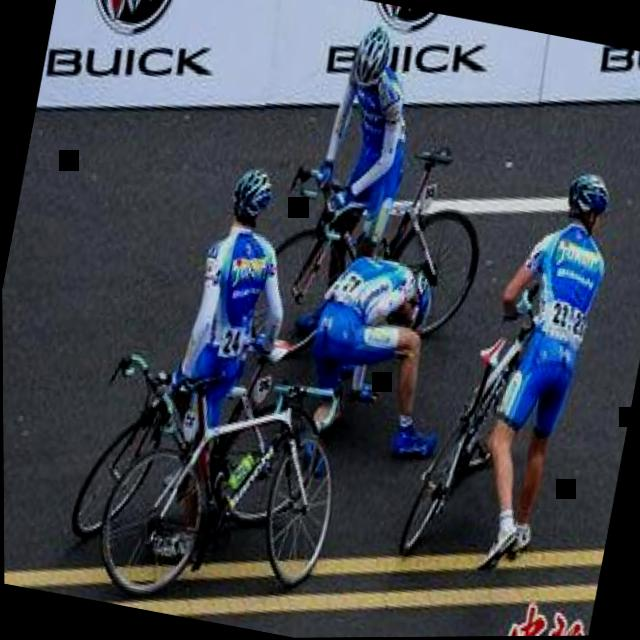Fall-Detected: (274, 226, 477, 481)
